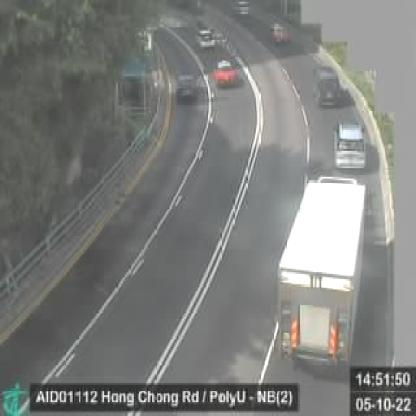Car: (332, 119, 366, 170), (312, 66, 342, 104), (173, 73, 197, 106), (212, 61, 238, 86), (269, 21, 291, 45), (196, 28, 216, 45)
Truck: (277, 175, 367, 369)
